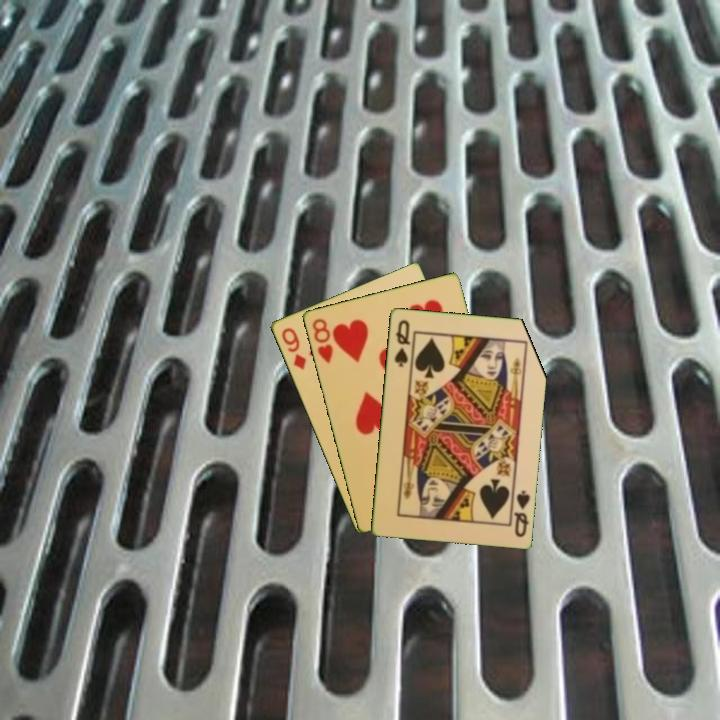8h: (308, 315, 336, 366)
9d: (278, 324, 309, 372)
Qs: (510, 486, 533, 540), (391, 316, 413, 369)
